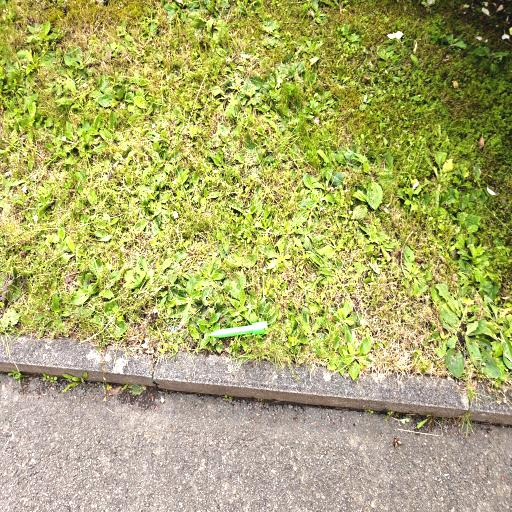Probe-Detection: (209, 322, 268, 338)
